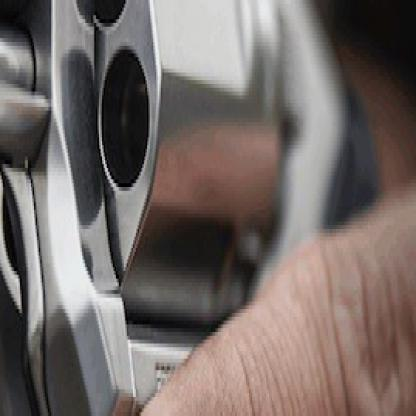gun: (0, 0, 396, 412)
